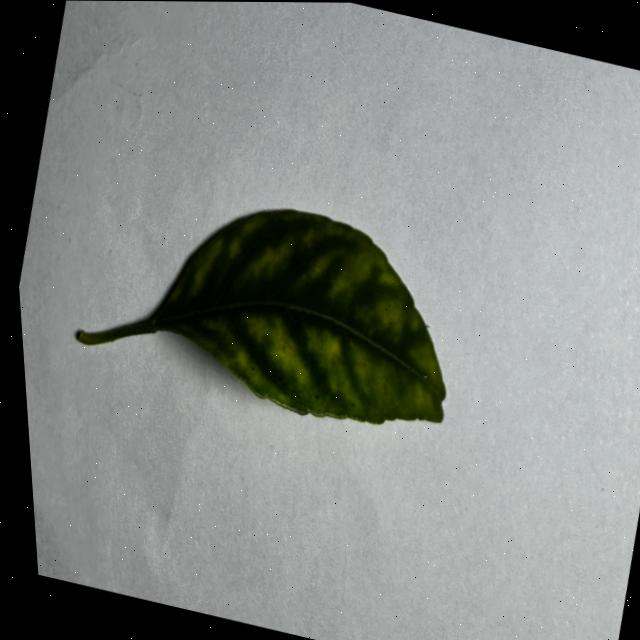greening: (79, 209, 445, 422)
